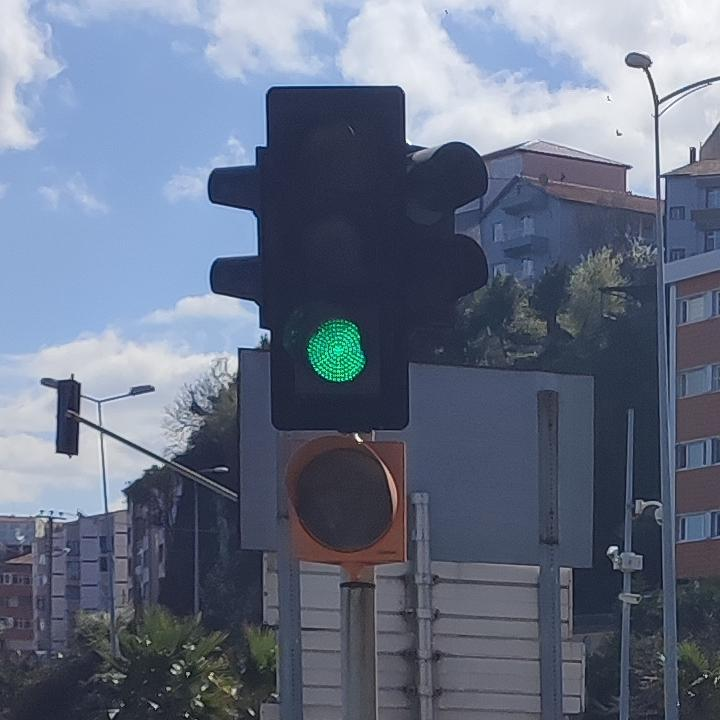green: (203, 79, 486, 430)
